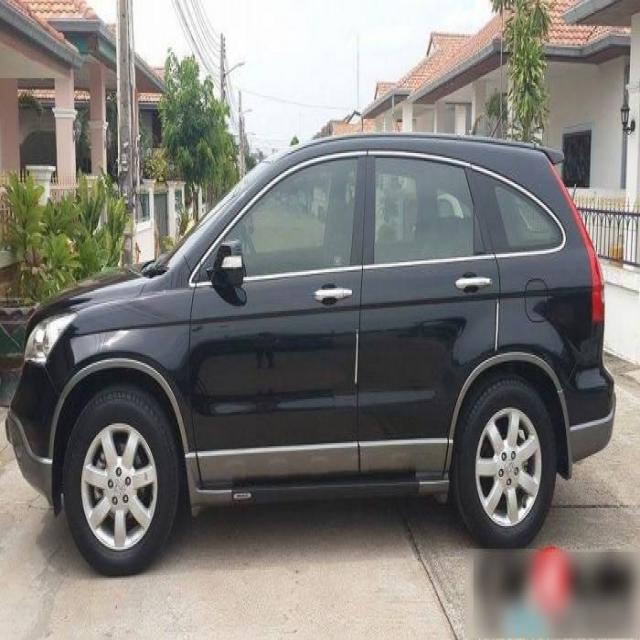back_left_door: (359, 150, 500, 474)
front_left_door: (190, 151, 367, 485)
front_left_light: (24, 312, 75, 361)
left_mirror: (210, 238, 243, 288)
wheel: (65, 369, 557, 575)
